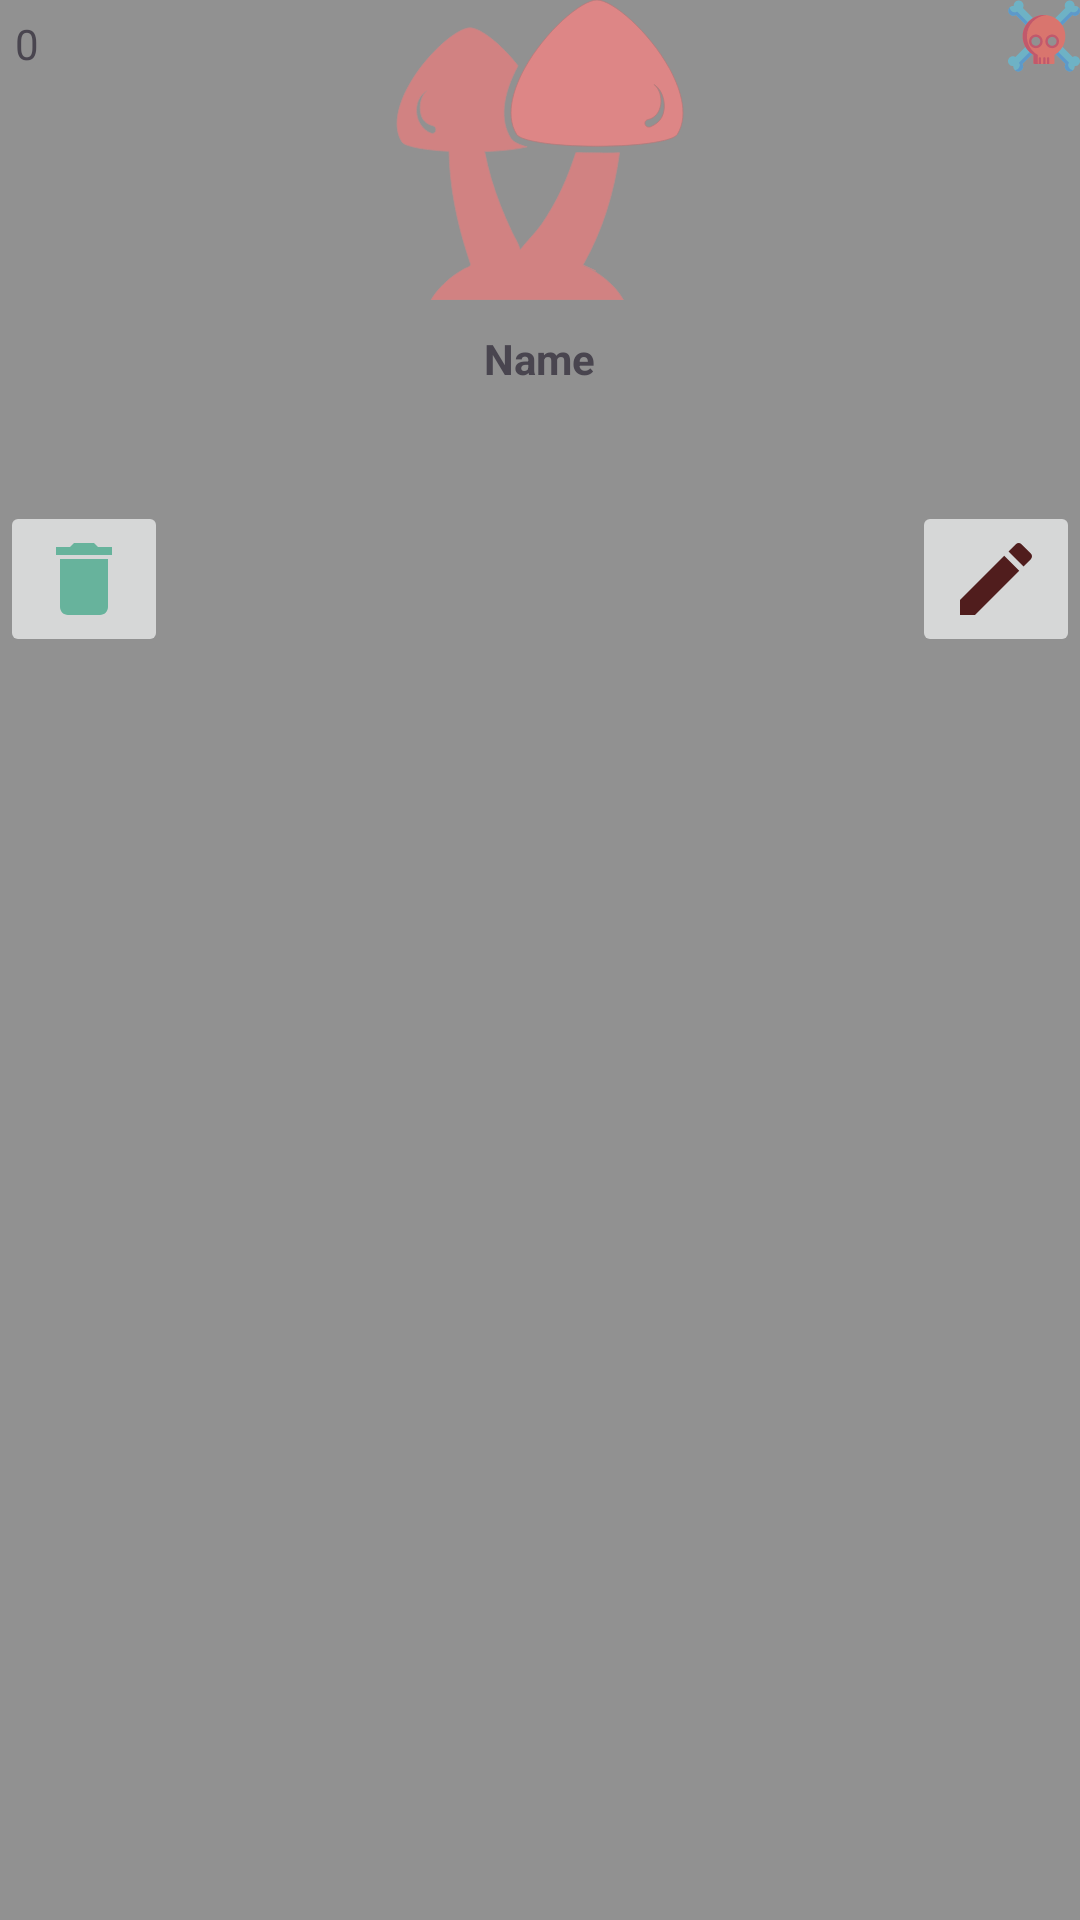

Named icons in this screenshot (1080px×1920px) and their centers, (x,y):
delete: (84,579)
edit: (996,579)
mushrooms dangerous: (540,150)
poisonous: (1044,36)
